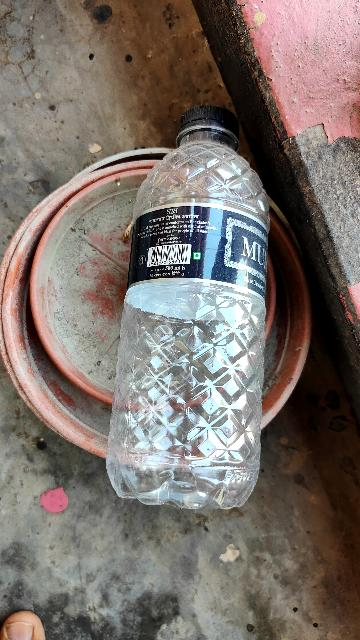bottle: (89, 109, 281, 502)
